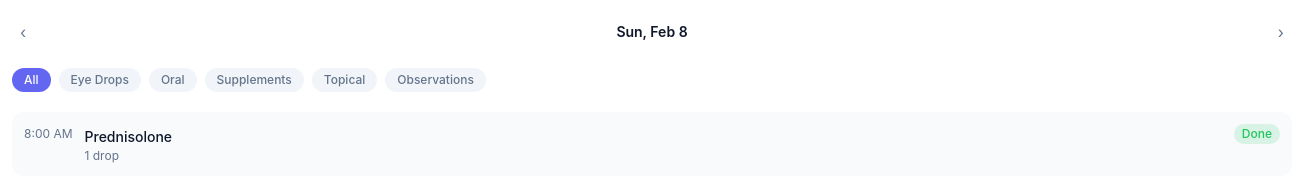
Test: HistoryPage › navigates dates when date picker arrows are clicked
The width and height of the screenshot is (1304, 180).
Click the button named "Previous day" at point(23, 32), box [12,12,34,52]
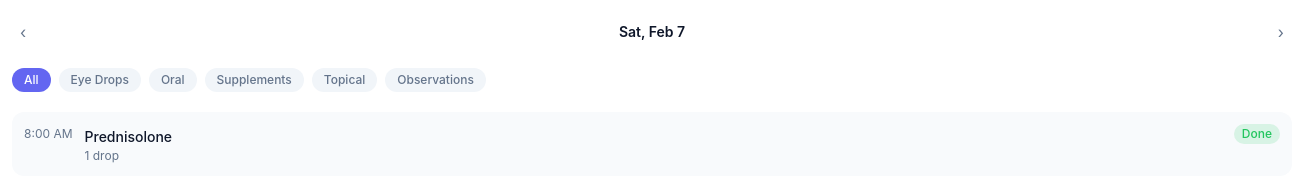
Expected: the text "Sat, Feb 7" is shown, [619,22,685,42]
